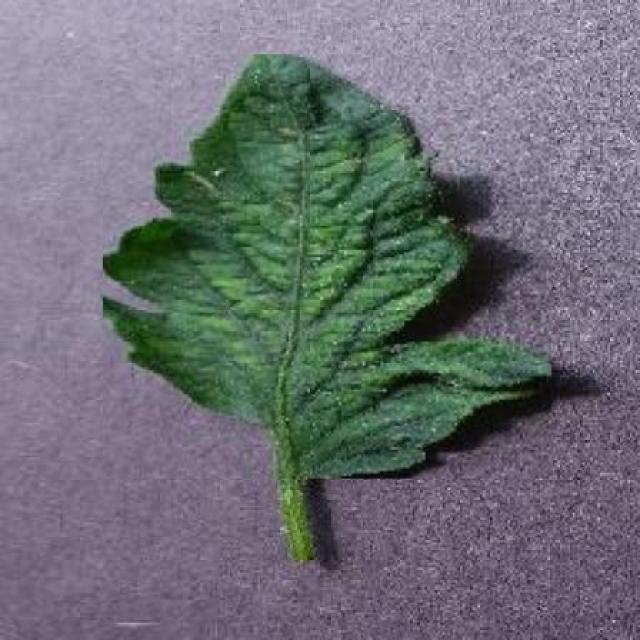Mosaic Virus: (103, 54, 551, 479)
